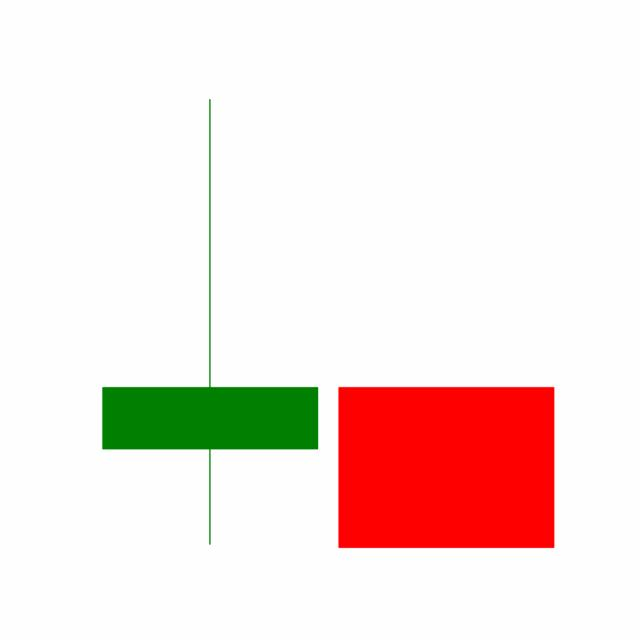Marubozu: (327, 385, 565, 549)
